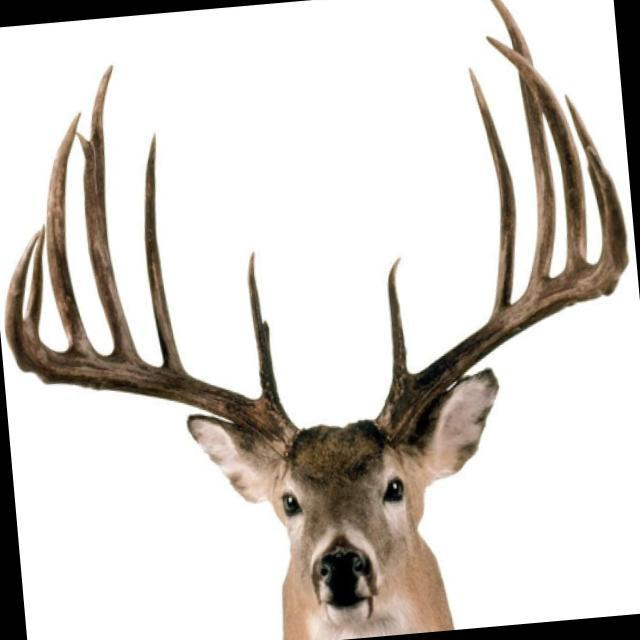E1: (76, 131, 91, 165)
L-F: (376, 144, 629, 450)
L-G1: (385, 256, 417, 399)
L-G2: (468, 67, 516, 317)
L-G4: (485, 35, 588, 272)
R-F: (3, 224, 299, 460)
R-G1: (247, 250, 286, 415)
R-G2: (143, 133, 187, 373)
R-G3: (83, 65, 141, 365)
R-G4: (45, 112, 96, 354)
